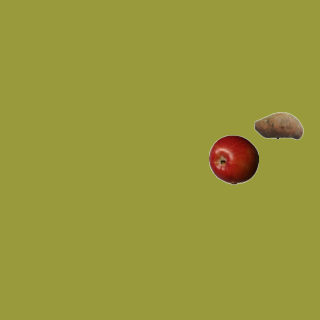Apple Braeburn: (208, 134, 258, 184)
Potato Sweet: (253, 100, 303, 150)
